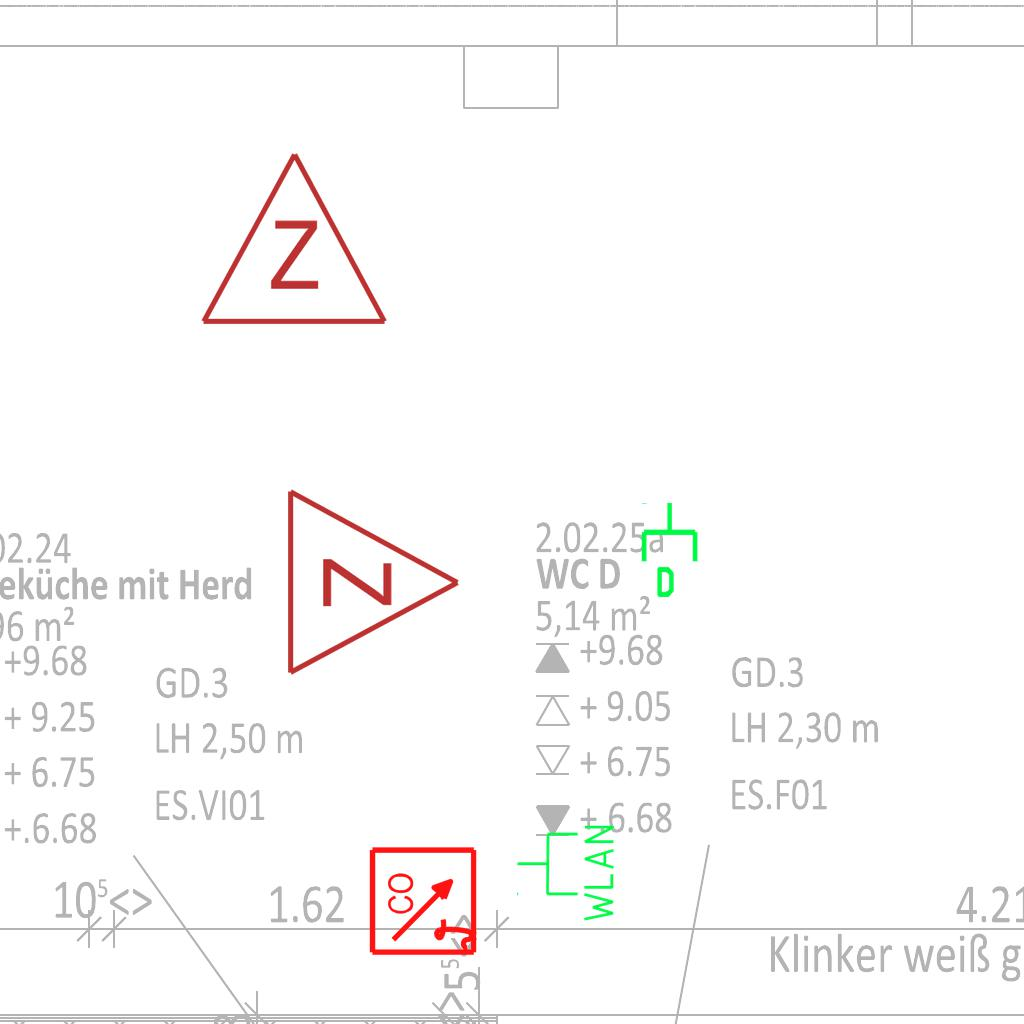Datenanschluss_einfach: (637, 500, 706, 600)
ROA_Rauchmelder_optisch_mit_Signalgeber_(Sockelsirene): (368, 844, 481, 957)
WLAN: (514, 821, 618, 926)
Zimmersignalleuchte: (194, 139, 390, 339), (273, 482, 473, 678)
